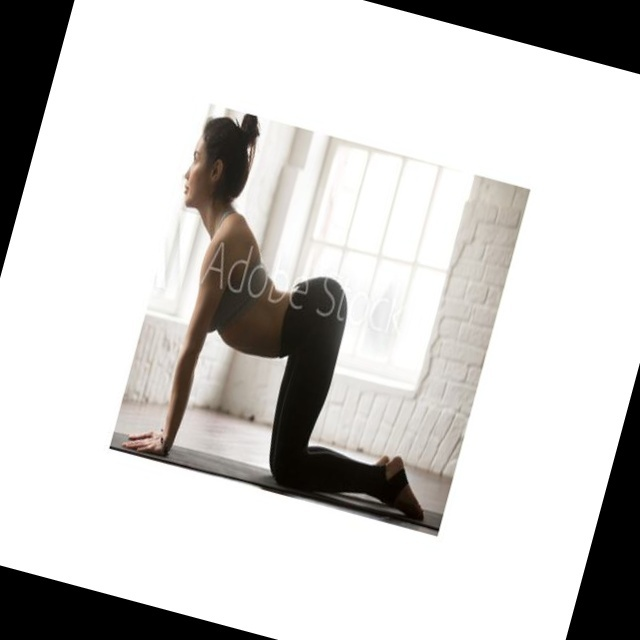Cow_Pose: (121, 119, 427, 528)
